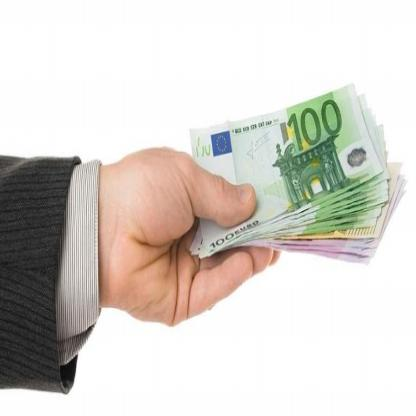billete: (188, 80, 408, 270)
